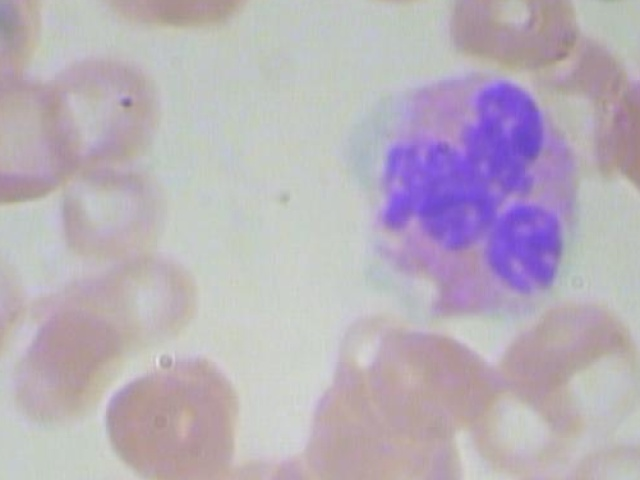Platelets: (578, 0, 630, 17)
WBC: (327, 68, 598, 322)
